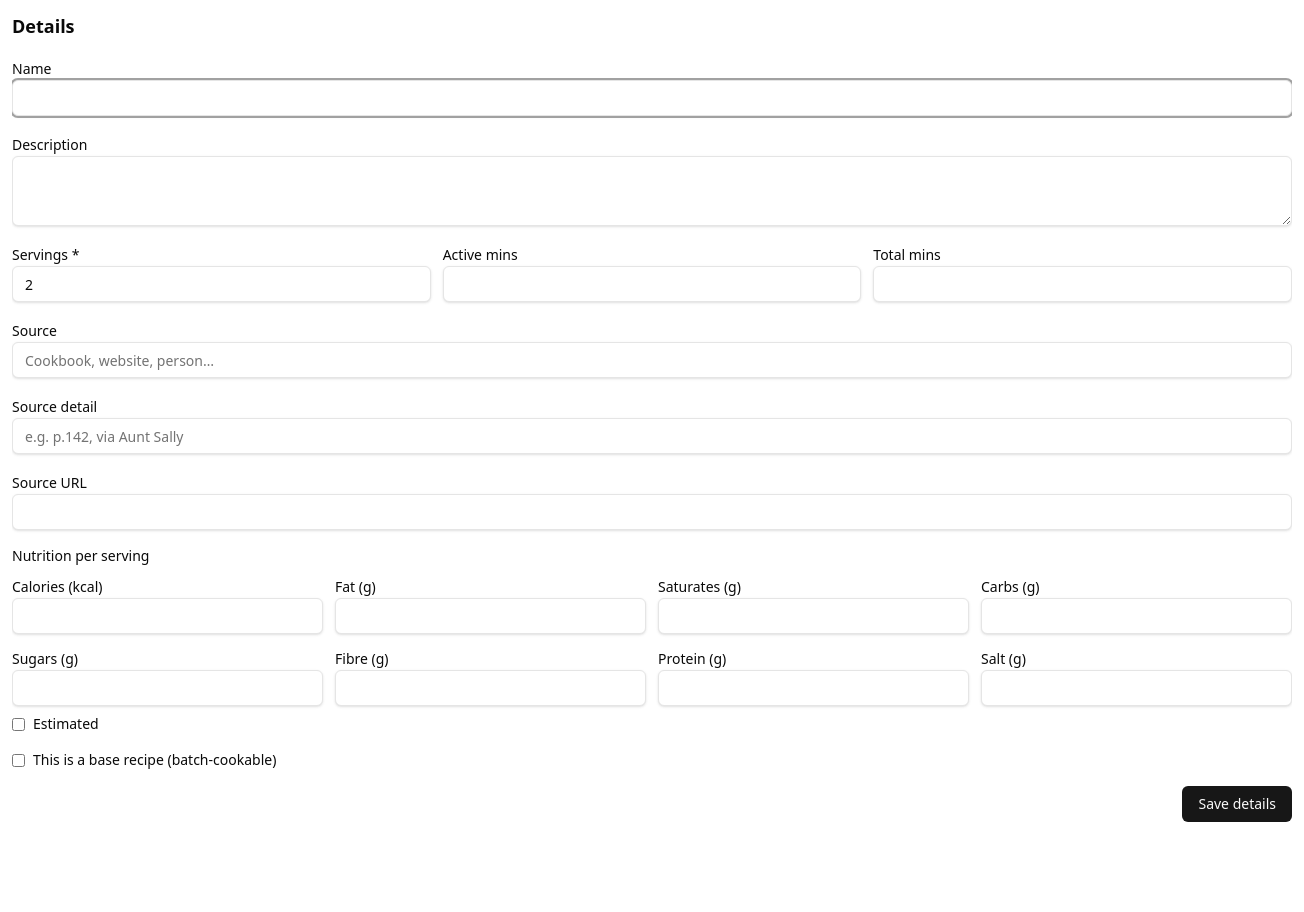
Test: HeaderFields › blocks submit and surfaces an inline error when name is empty
What coordinates should you click on to do the following:
click the button "Save details"
I would click on:
 (1237, 804)
Its box is [1182, 786, 1292, 822].
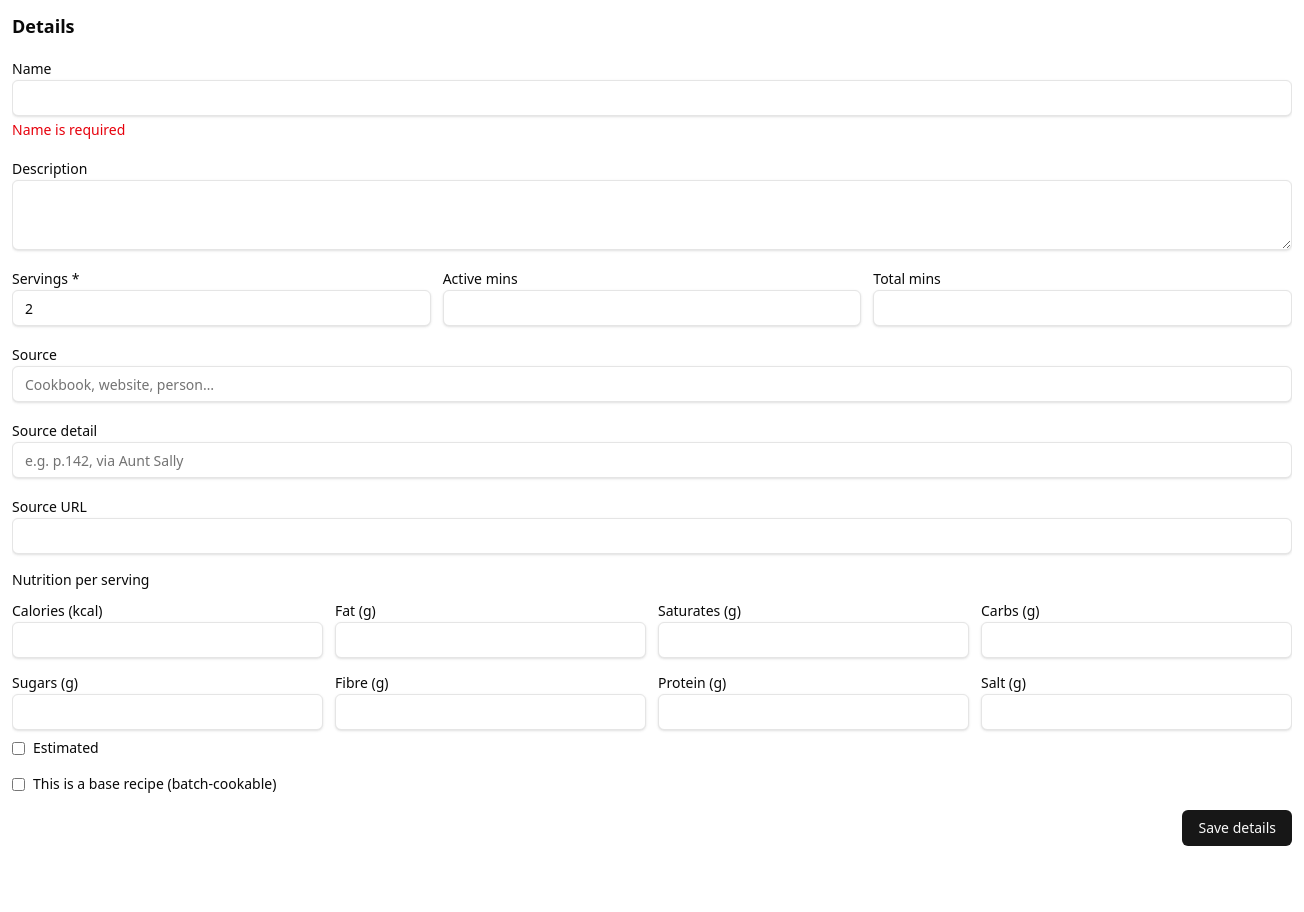
Result: the text "Name is required" is shown at [12, 120, 125, 139]
